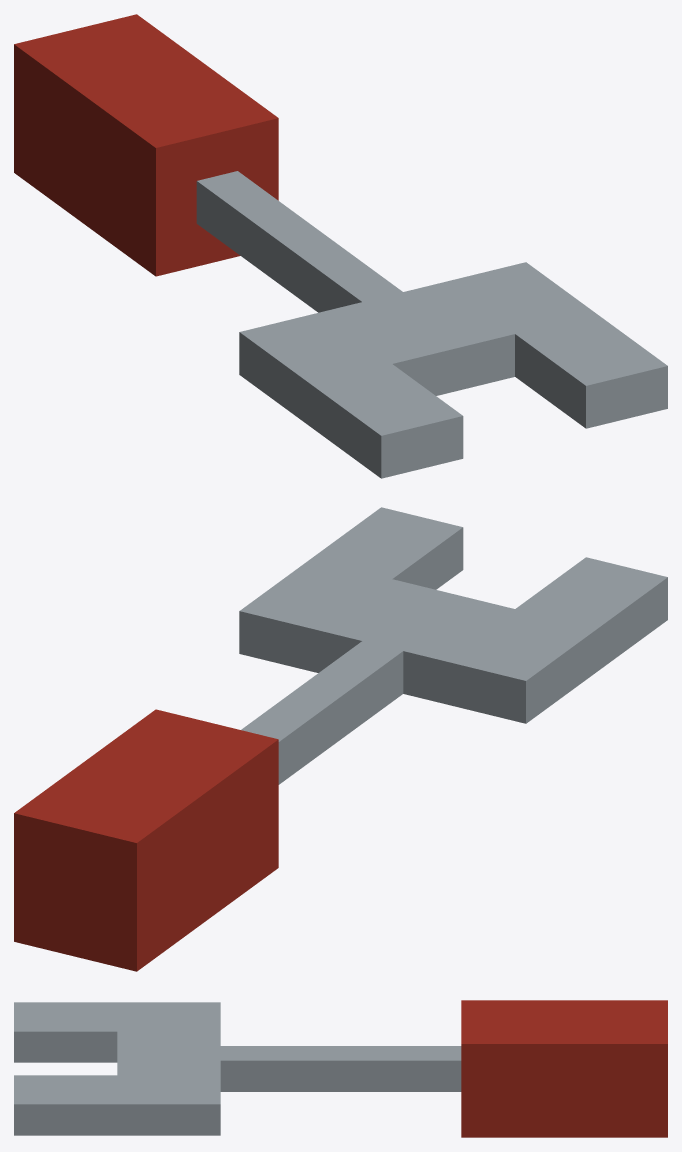
The model's file is vox_wrench.glb.
The picture shows the model from 3 angles, top to bottom: view 1: azimuth 30°, elevation 25°; view 2: azimuth 150°, elevation 25°; view 3: azimuth 270°, elevation 25°; orthographic projection. The views are drawn at different scales.
Visible parts, largest first — view 1: vox_wrench; view 2: vox_wrench; view 3: vox_wrench.
Part boxes in pixels (x1,y1,x2,y2): vox_wrench: (14, 14, 667, 478); vox_wrench: (14, 507, 667, 971); vox_wrench: (14, 1000, 667, 1137).
Size of the model in its own units: 0.14 by 0.06 by 0.38.
